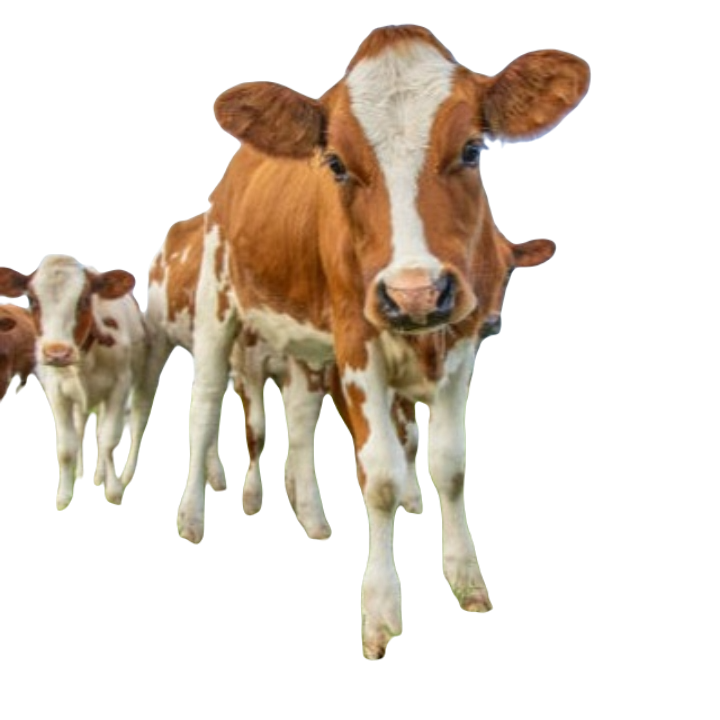Cow: (174, 23, 590, 663)
